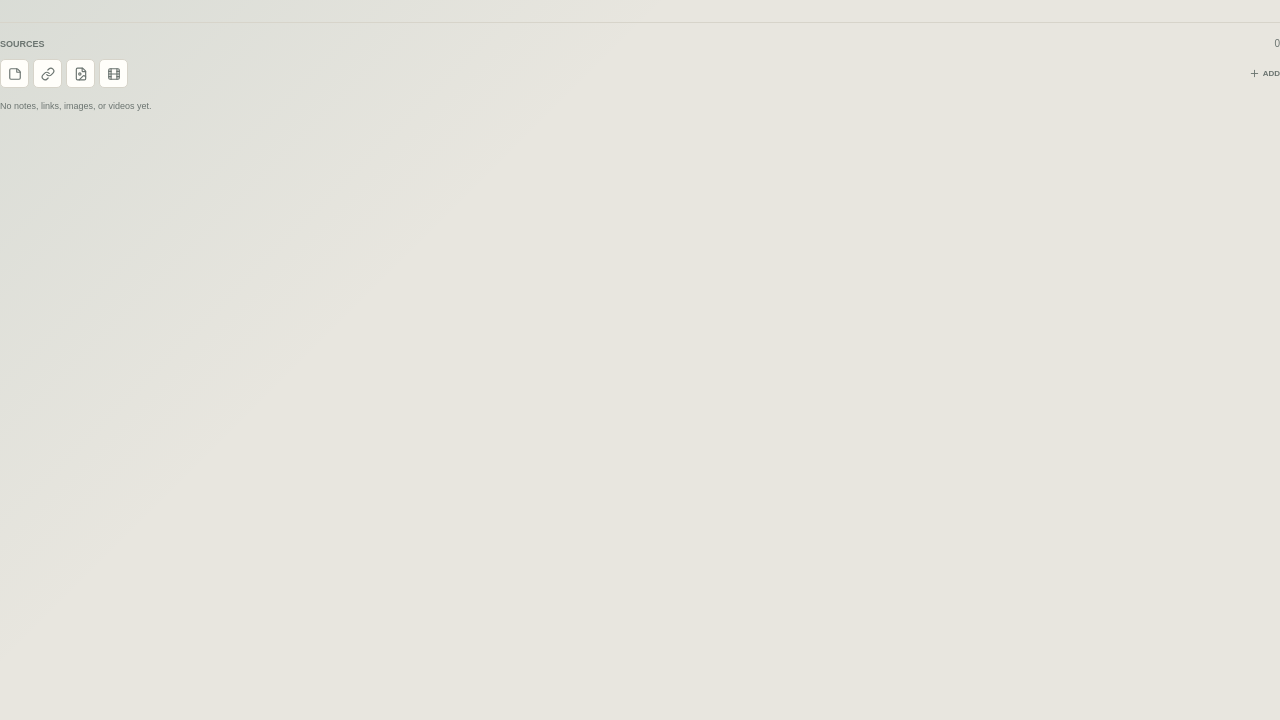
Test case: attachment links › prefills the URL and uses remaining clipboard text as the title
The width and height of the screenshot is (1280, 720).
Click the button named "Add link". click: point(48, 74)
box: [33,59,62,88]
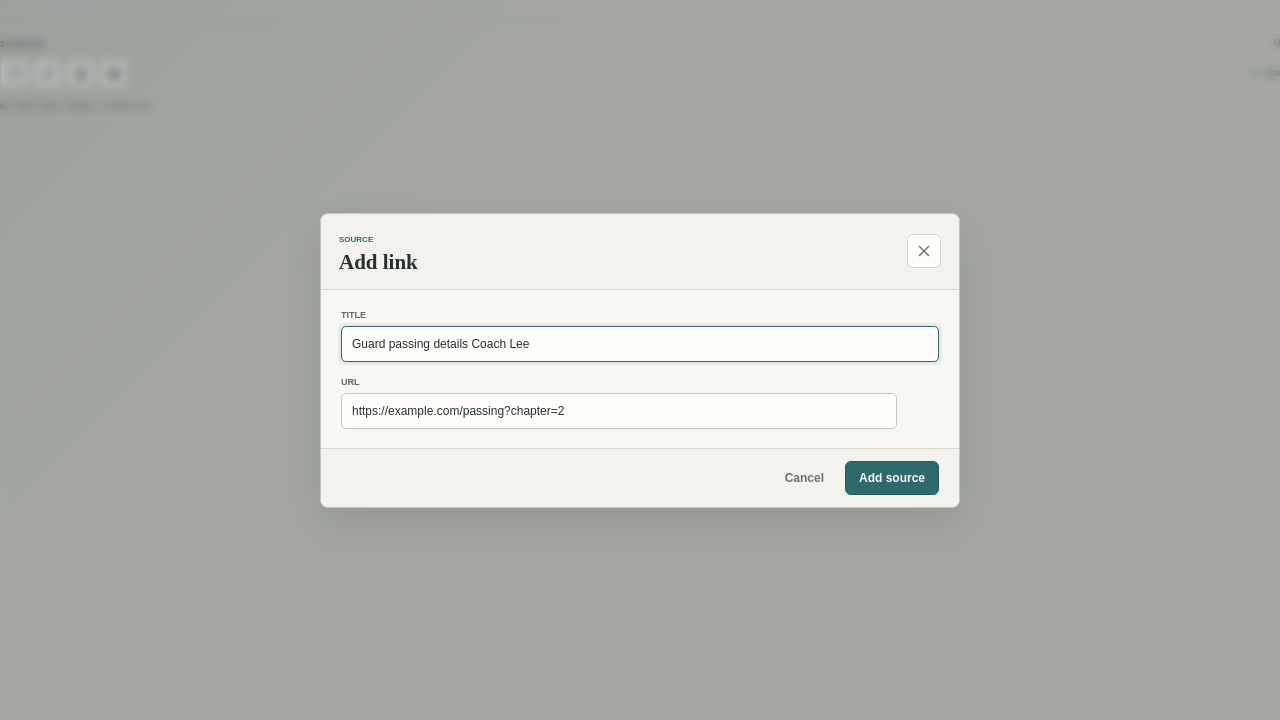
Expected: the field labelled "URL" holds "https://example.com/passing?chapter=2", [341,392,897,428]
Expected: the field labelled "Title" holds "Guard passing details Coach Lee", [341,326,939,362]
